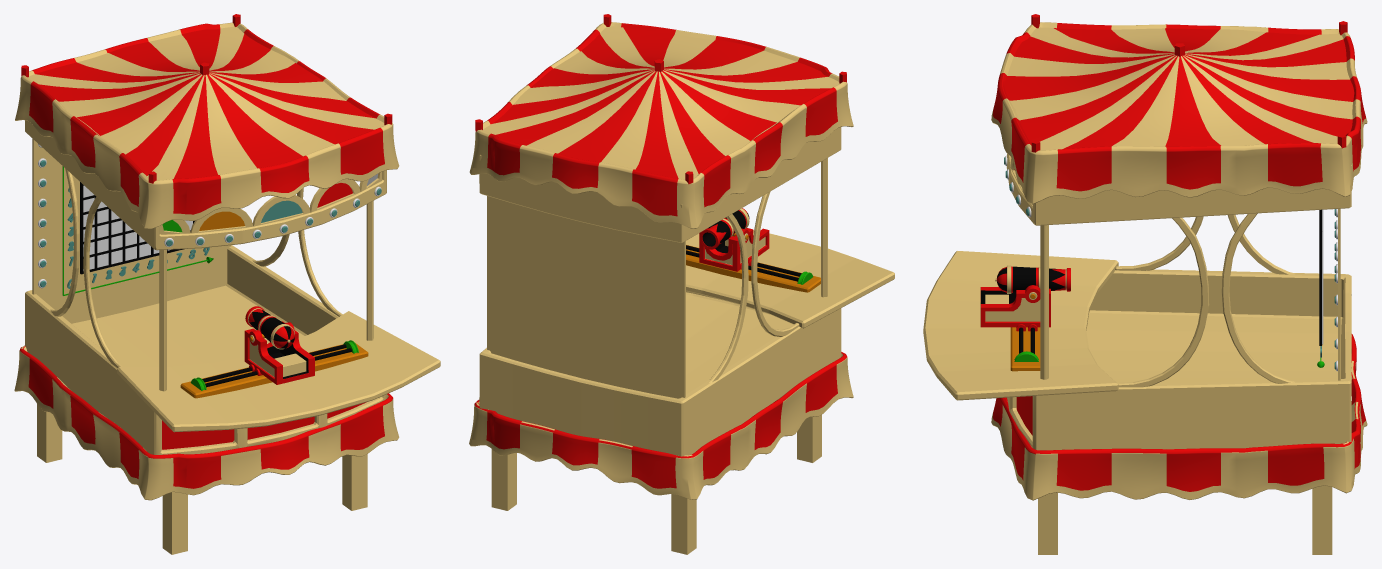
File: boothAndCannon_02.fbx
3 views of the same model, side by side, from view 1: azimuth 30°, elevation 25°; view 2: azimuth 150°, elevation 25°; view 3: azimuth 270°, elevation 25° (orthographic). The views are drawn at different scales.
Parts seen in each view (by area): view 1: booth, stands, cannon_base, polySurface28, cannon; view 2: booth, stands, cannon_base, cannon; view 3: booth, stands, cannon_base, cannon.
Part boxes in pixels (x1,y1,x2,y2): booth: [14, 14, 440, 500]; stands: [37, 404, 367, 554]; cannon_base: [244, 321, 314, 384]; polySurface28: [83, 185, 192, 270]; cannon: [245, 306, 294, 349]; booth: [469, 14, 894, 499]; stands: [491, 415, 821, 554]; cannon_base: [699, 228, 769, 271]; cannon: [700, 208, 749, 249]; booth: [923, 14, 1367, 500]; stands: [1038, 485, 1332, 554]; cannon_base: [980, 285, 1050, 327]; cannon: [995, 265, 1070, 293].
Bounding box in the file's own units: 2.12 × 3.17 × 2.79.
